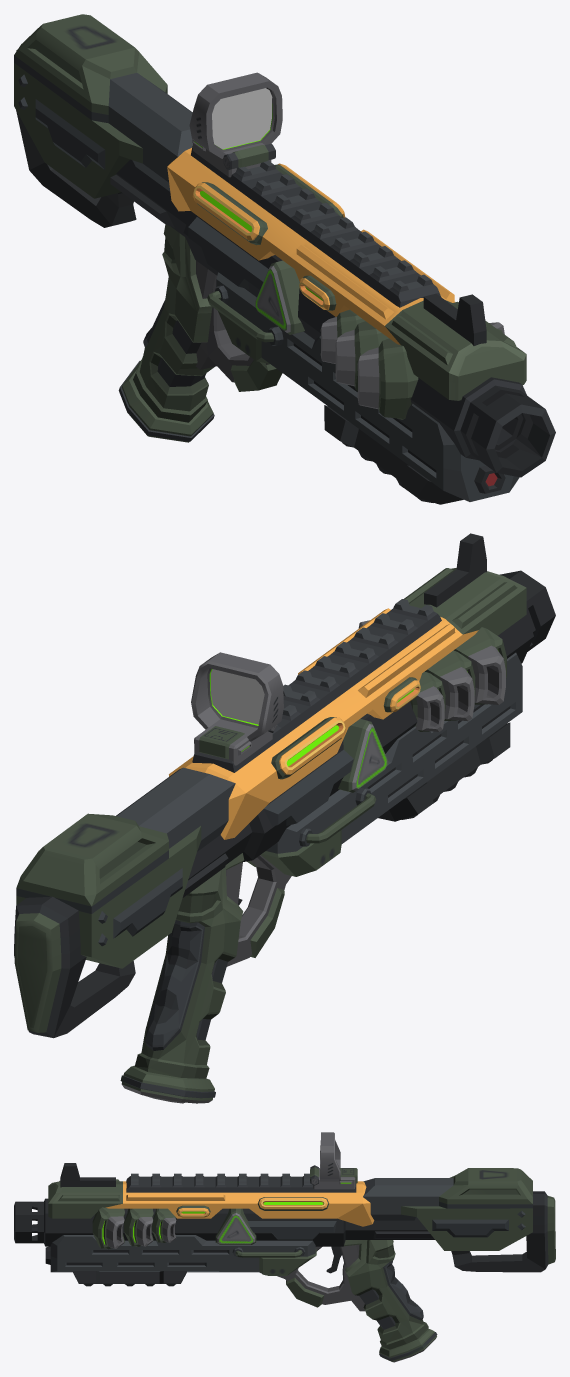
File: SM_Wep_Shotgun_01.fbx
3 views of the same model, one above another, from view 1: azimuth 30°, elevation 25°; view 2: azimuth 150°, elevation 25°; view 3: azimuth 270°, elevation 25° (orthographic). The views are drawn at different scales.
Parts seen in each view (by area): view 1: SM_Wep_Shotgun_01, SM_Wep_Shotgun_01_HoloSight_01; view 2: SM_Wep_Shotgun_01, SM_Wep_Shotgun_01_HoloSight_01; view 3: SM_Wep_Shotgun_01.
Boxes of the visible parts, x1,y1,x2,y2 form: SM_Wep_Shotgun_01: (14, 14, 555, 504); SM_Wep_Shotgun_01_HoloSight_01: (212, 88, 272, 149); SM_Wep_Shotgun_01: (14, 533, 555, 1103); SM_Wep_Shotgun_01_HoloSight_01: (211, 669, 264, 724); SM_Wep_Shotgun_01: (14, 1132, 555, 1362).
Bounding box in the file's own units: 57.17 × 148 × 333.
